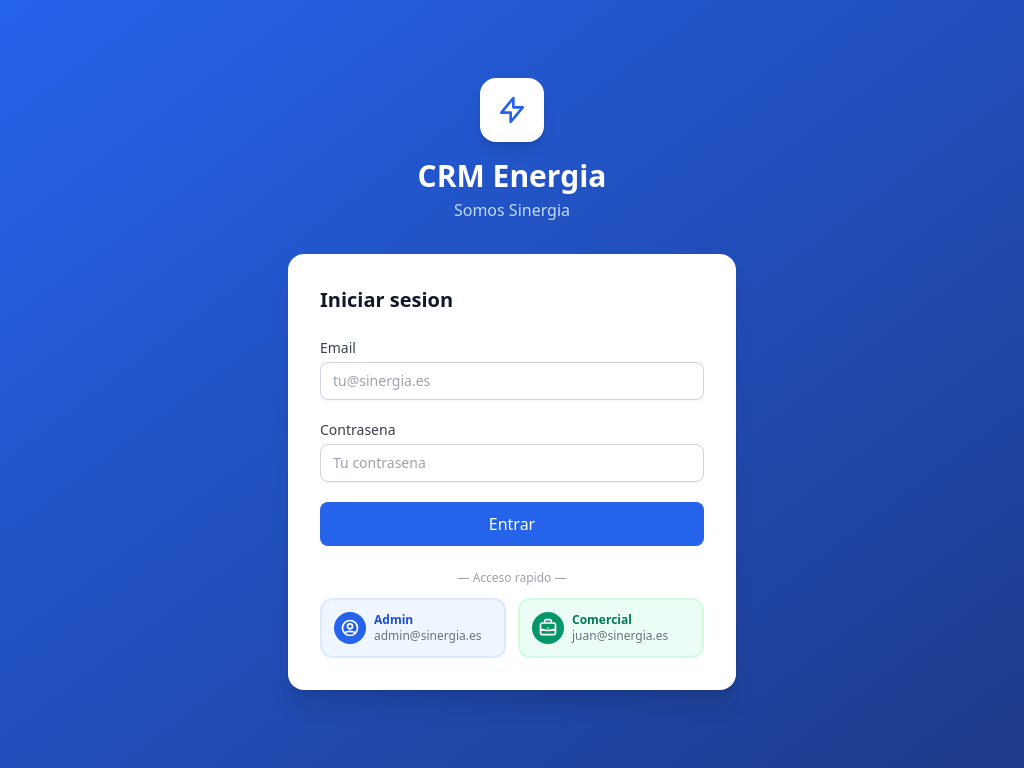
Test case: Login page › shows validation error on short password
Type "test@test.com" into the field labelled "Email" at point(512, 381), box [320,362,704,400]
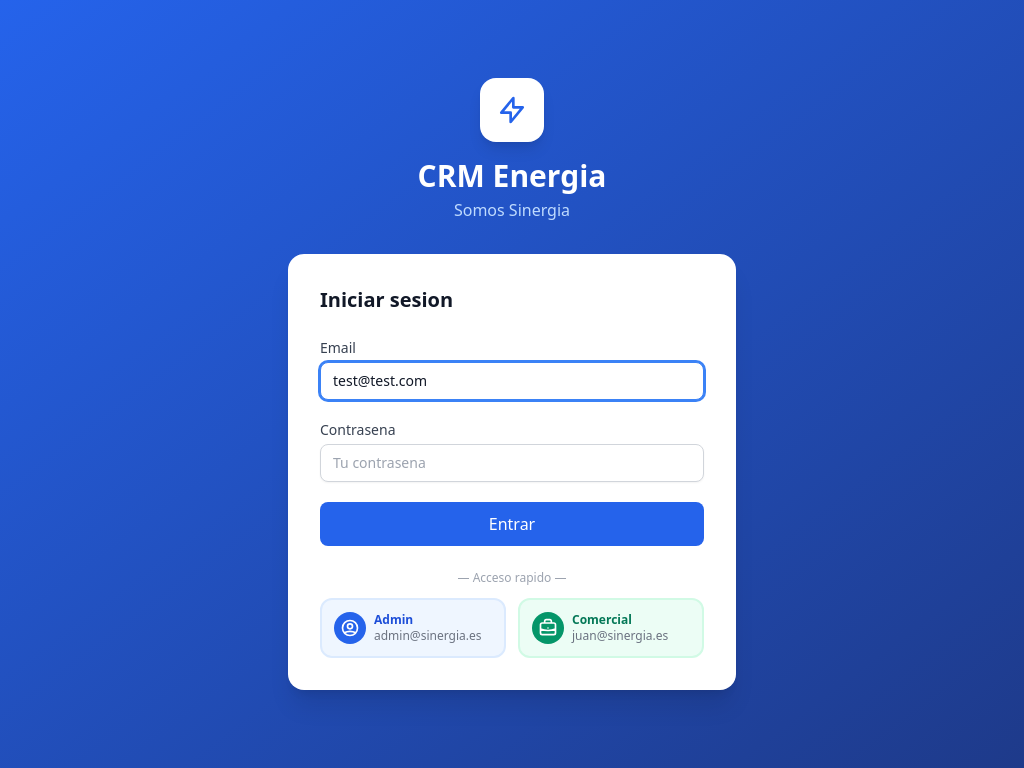
Type "12" into the password field labelled "Contrasena" at point(512, 463), box [320,444,704,482]
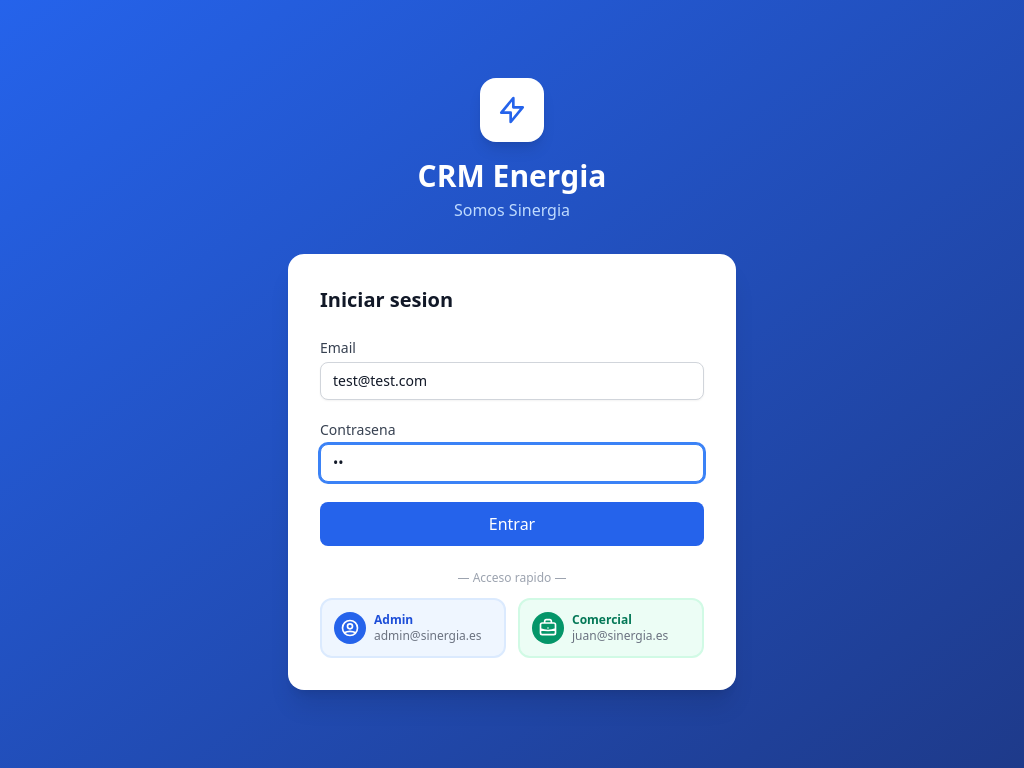
Click the button "Entrar" at point(512, 524), box [320,502,704,546]
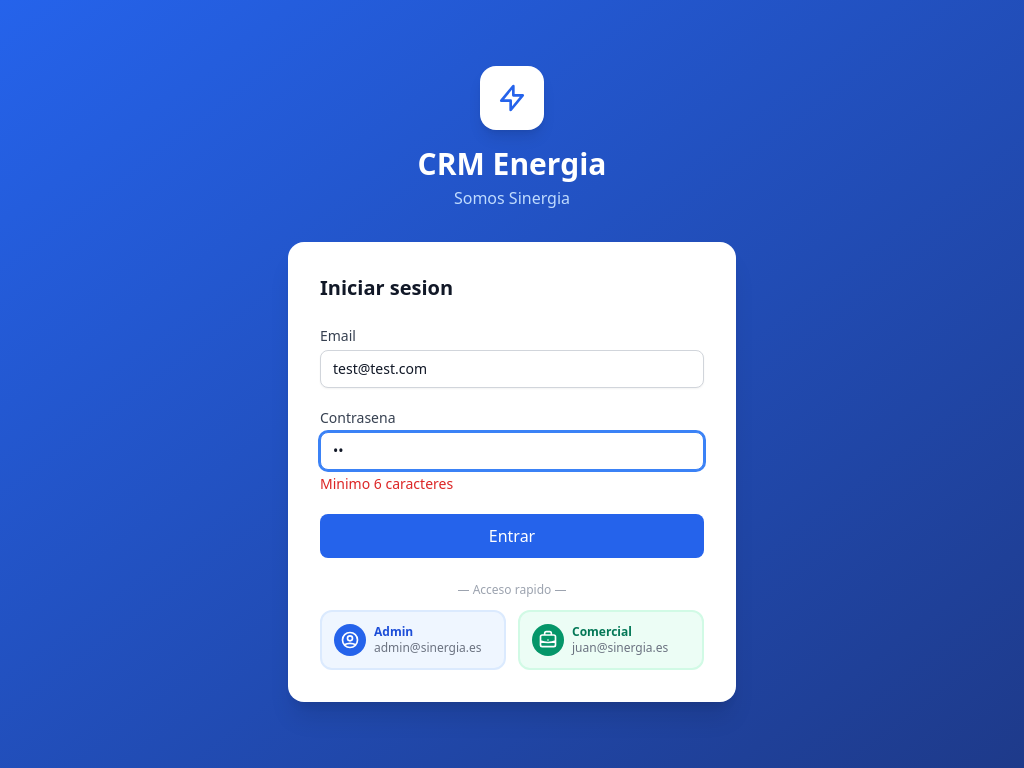
Result: the text "Minimo 6 caracteres" is shown at [320,474,453,493]
